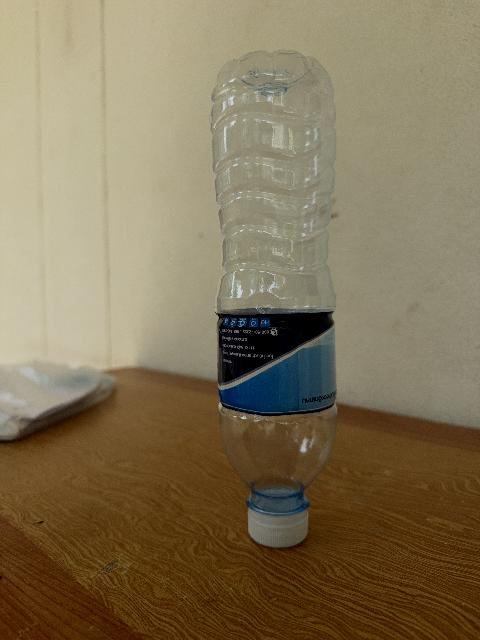bottle: (212, 51, 336, 546)
